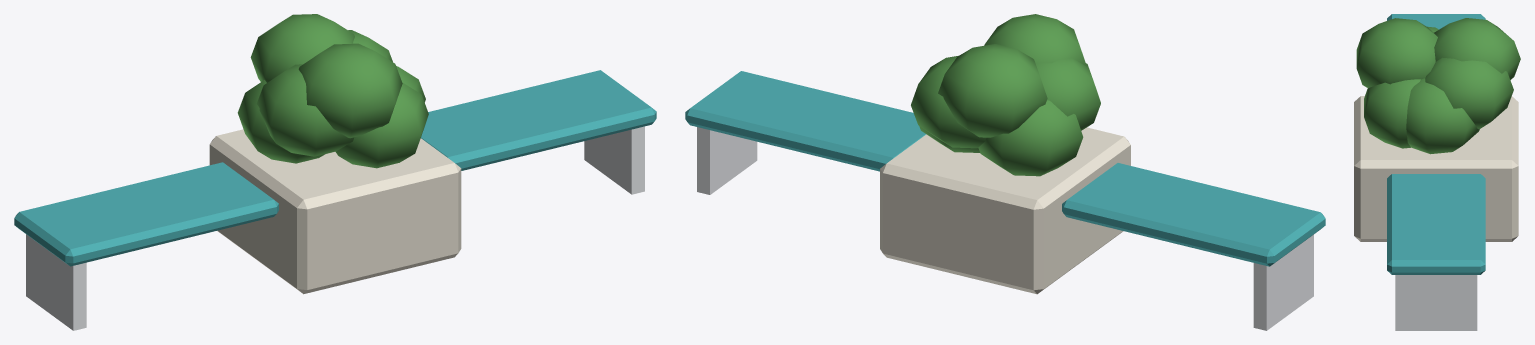
Rendered from mp_bench.glb.
The picture shows the model from 3 angles, left to right: view 1: azimuth 30°, elevation 25°; view 2: azimuth 150°, elevation 25°; view 3: azimuth 270°, elevation 25°; orthographic projection. The views are drawn at different scales.
Parts seen in each view (by area): view 1: mp_bench; view 2: mp_bench; view 3: mp_bench.
Boxes of the visible parts, x1,y1,x2,y2 form: mp_bench: (14,14,656,330); mp_bench: (685,14,1325,330); mp_bench: (1354,14,1520,330).
Size of the model in its own units: 3.6 by 1.23 by 1.01.
